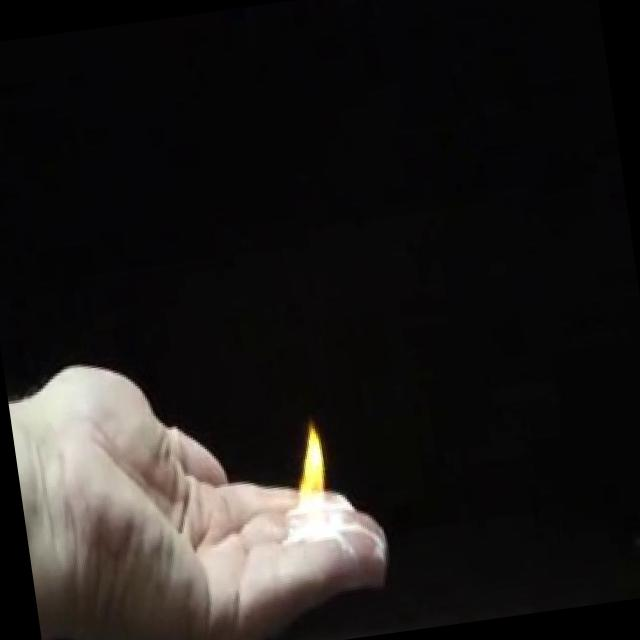Fire: (280, 415, 334, 523)
